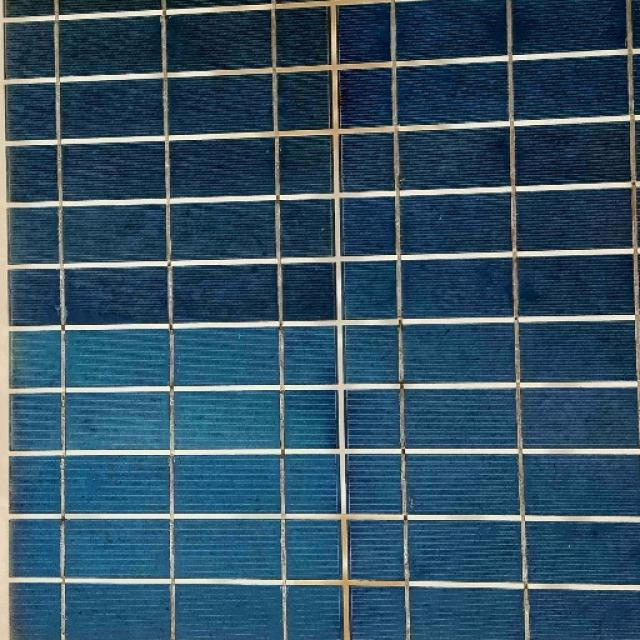Clean: (1, 36, 640, 640)
